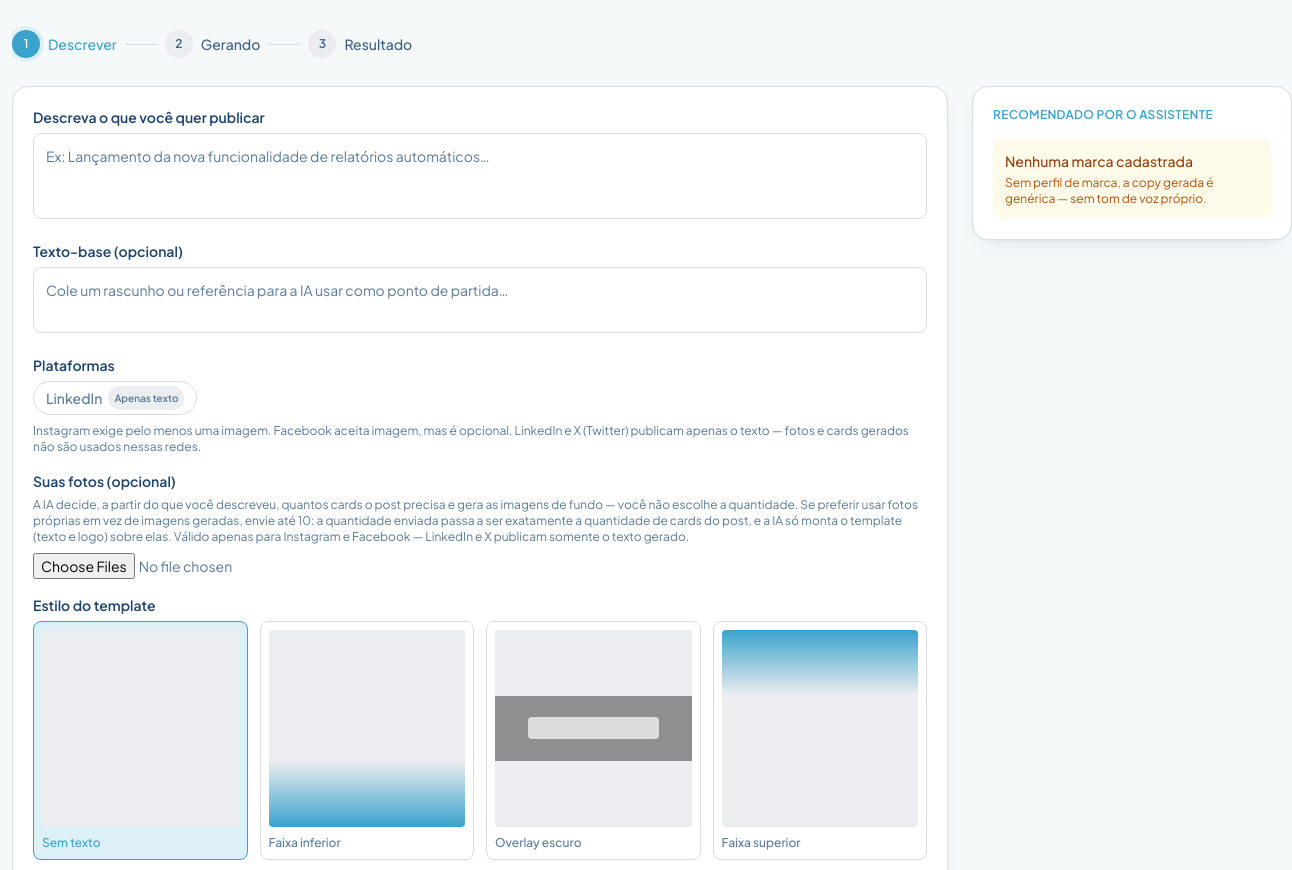
Test case: GenerateContentPage › mostra falha geral quando o generationRequest retorna status failed
The image size is (1292, 870).
Type "Lançamento X" into the text box with placeholder "Lançamento da nova funcionalidade" at x=480, y=176, box [33,133,927,219]
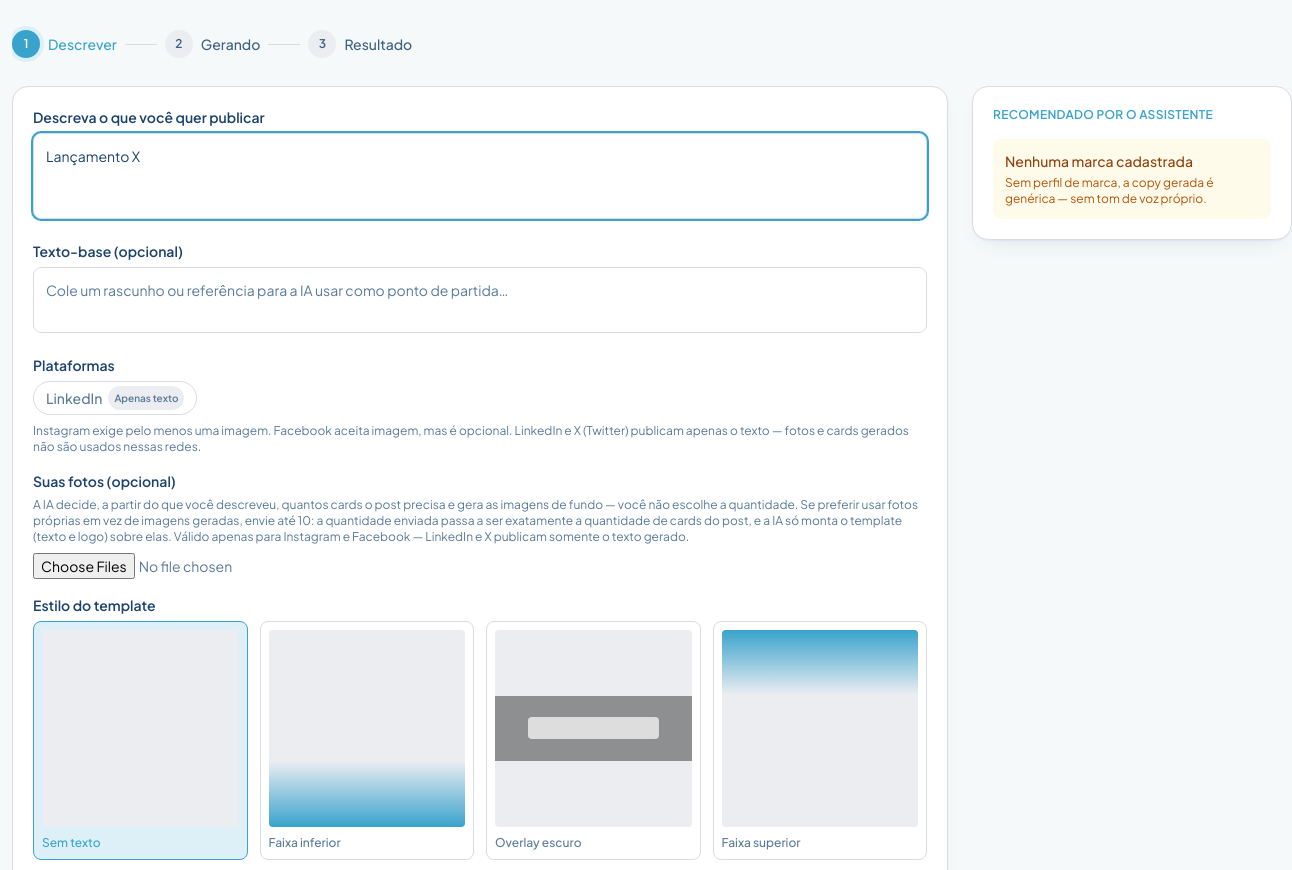
Click the button "LinkedIn Apenas texto" at x=115, y=398, box [33,381,198,415]
(page scrolled)
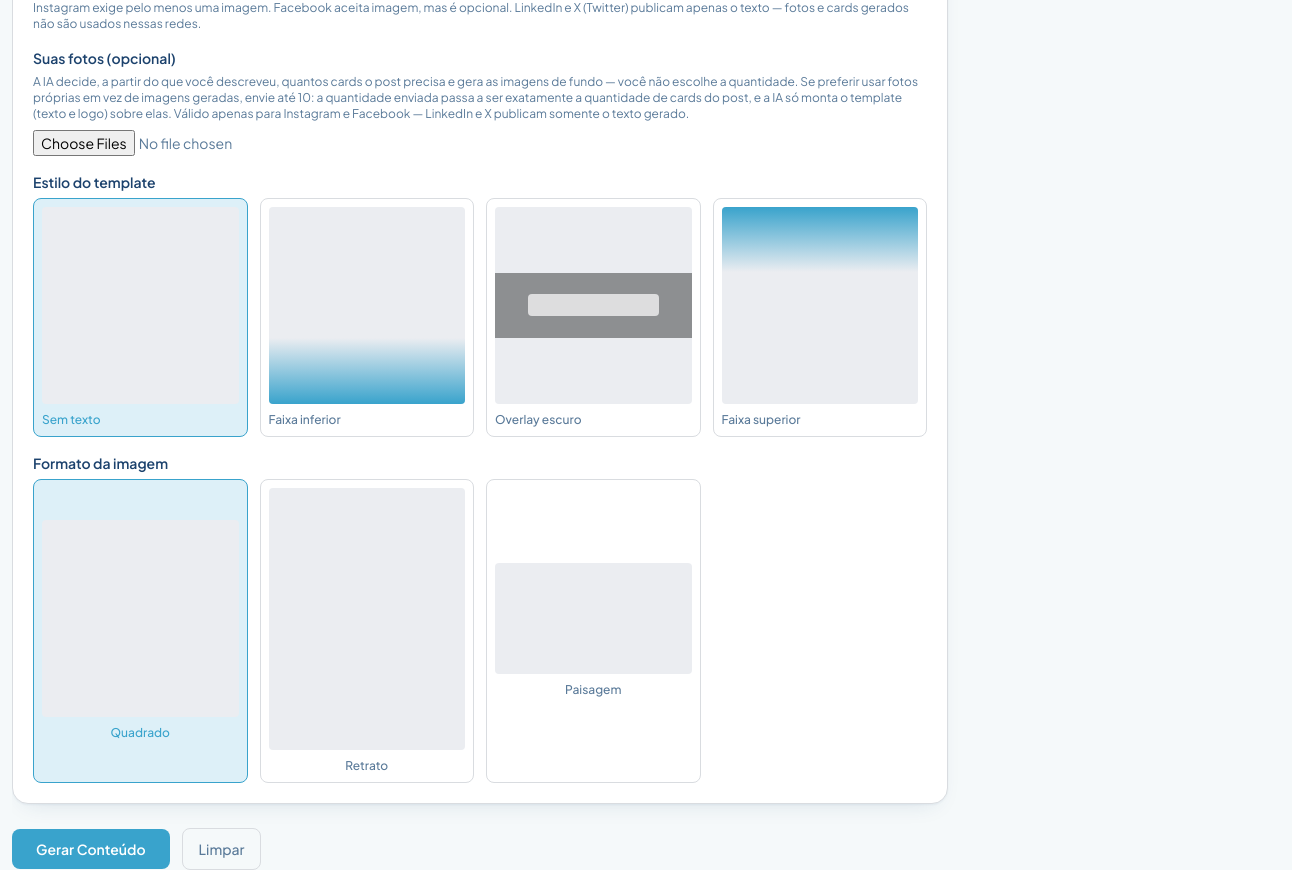
Click the button "Gerar Conteúdo" at x=91, y=848, box [12,828,170,868]
(page scrolled)
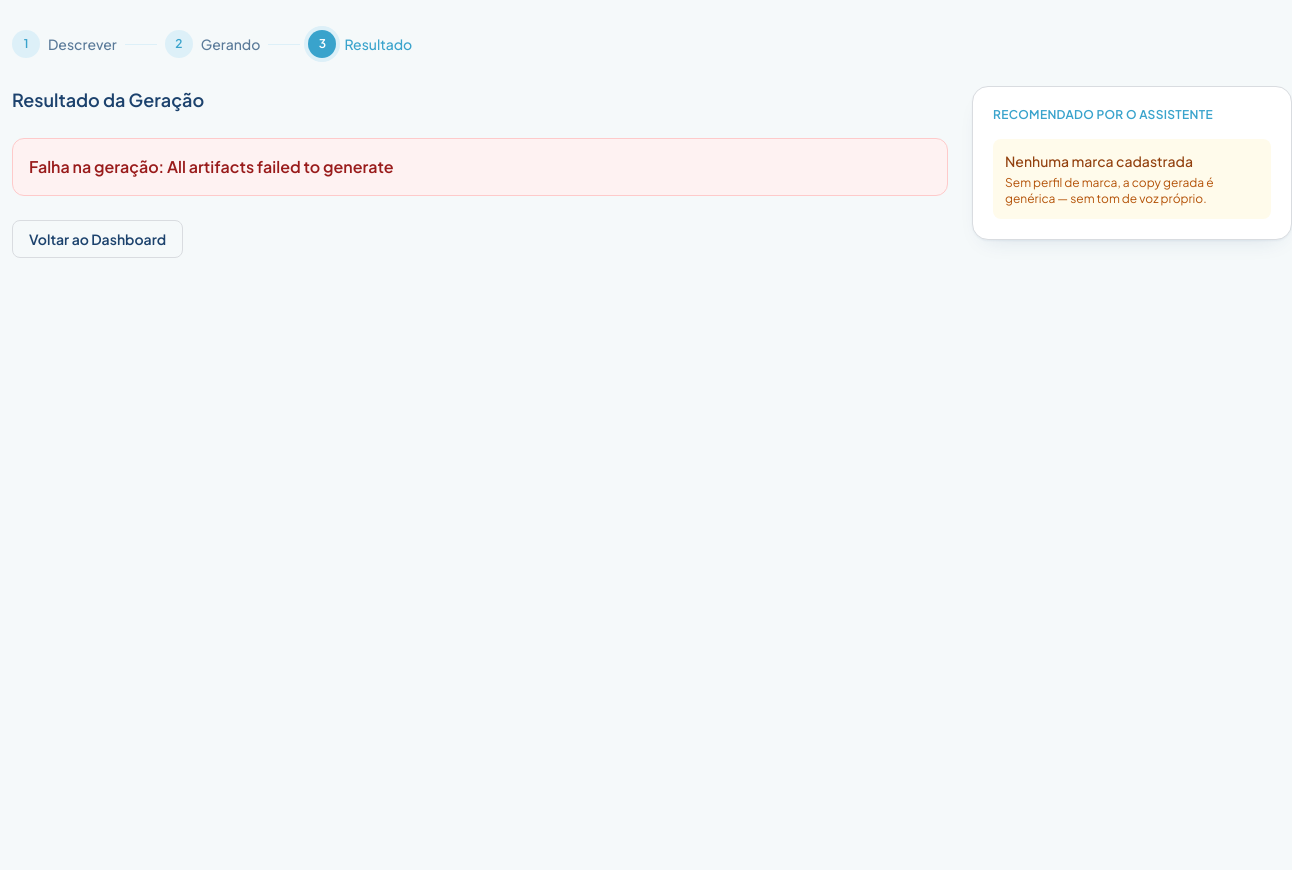
Expected: the text "Falha na geração: All artifacts failed to generate" is shown, [29,156,394,177]
